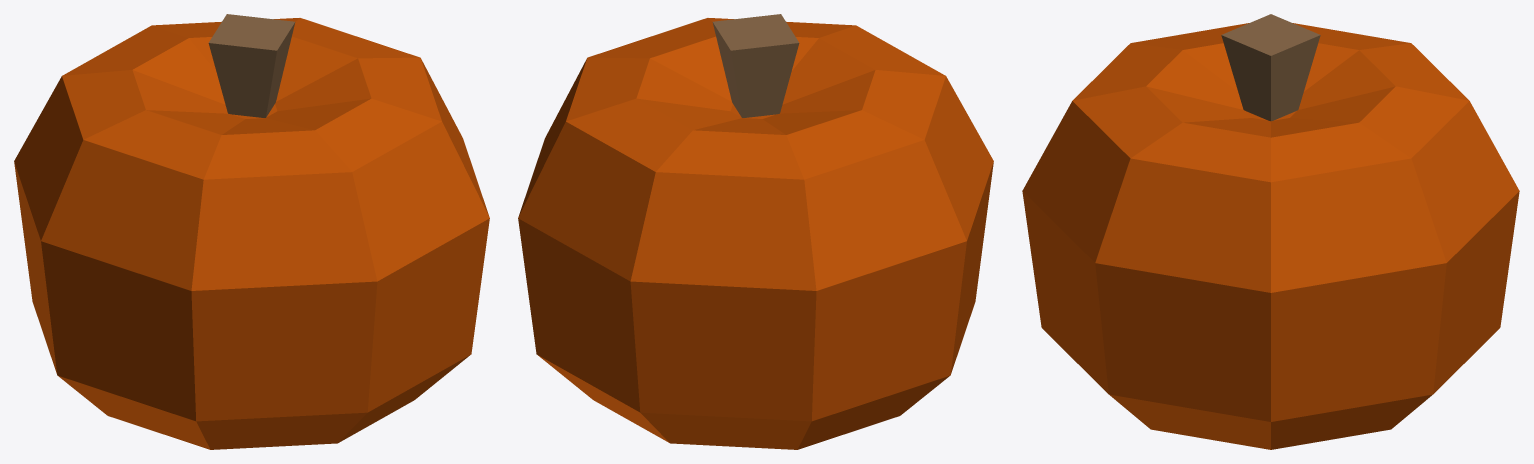
3 renders of one model, left to right at view 1: azimuth 30°, elevation 25°; view 2: azimuth 150°, elevation 25°; view 3: azimuth 270°, elevation 25°, orthographic.
Visible parts, largest first — view 1: pumpkin; view 2: pumpkin; view 3: pumpkin.
Boxes of the visible parts, x1,y1,x2,y2 form: pumpkin: [14, 14, 489, 449]; pumpkin: [518, 14, 993, 449]; pumpkin: [1022, 14, 1519, 449].
Bounding box in the file's own units: 0.2428 × 0.2055 × 0.25.
